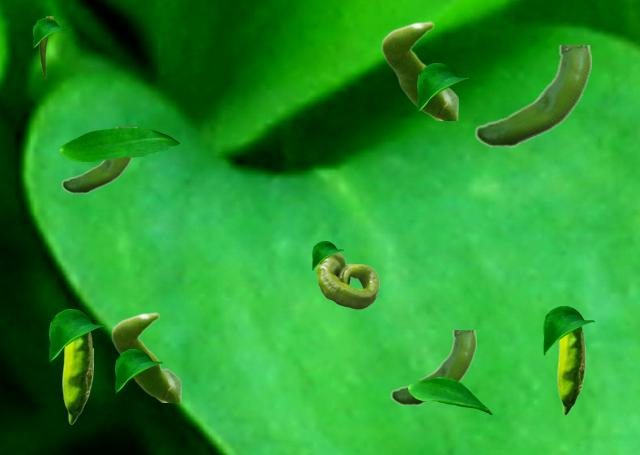green_chili: (474, 45, 590, 147), (381, 21, 457, 119), (390, 330, 475, 405), (111, 312, 180, 401), (61, 127, 136, 193), (316, 252, 378, 308), (62, 332, 92, 423), (557, 327, 584, 414), (39, 16, 52, 77)
